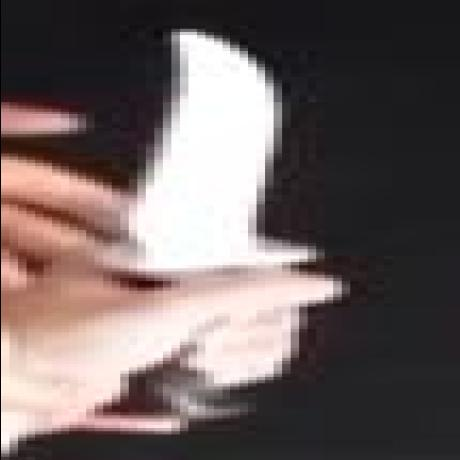1: (0, 252, 357, 454)
weapon: (135, 29, 317, 268)
